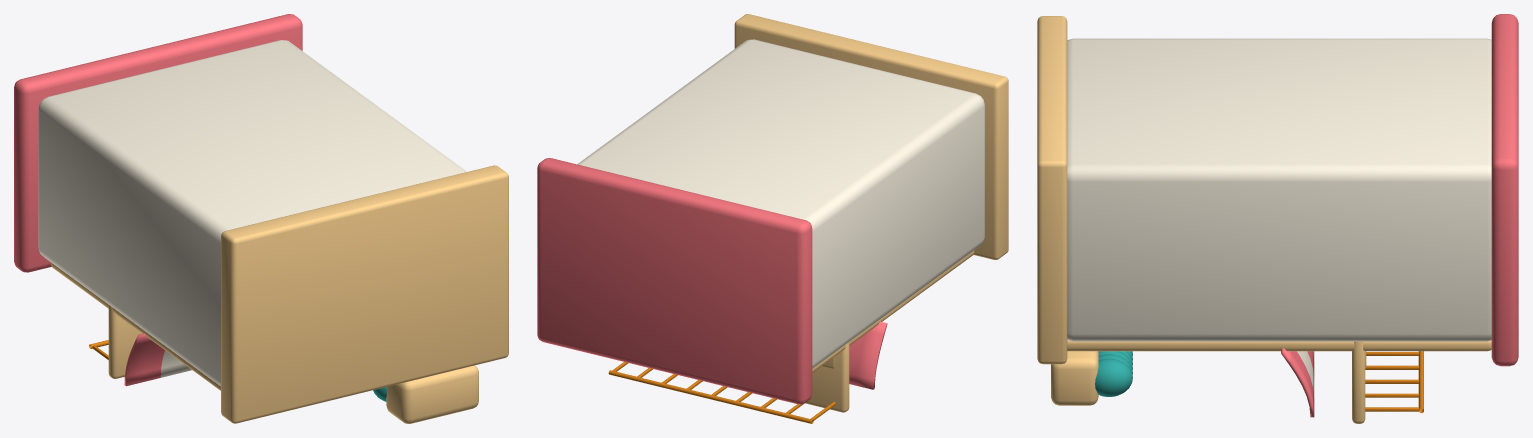
The model's file is RunnerTownhouse1.fbx.
3 views of the same model, side by side, from view 1: azimuth 30°, elevation 25°; view 2: azimuth 150°, elevation 25°; view 3: azimuth 270°, elevation 25° (orthographic). The views are drawn at different scales.
Visible parts, largest first — view 1: RunnerTownhouse1; view 2: RunnerTownhouse1; view 3: RunnerTownhouse1.
Boxes of the visible parts, x1,y1,x2,y2 form: RunnerTownhouse1: (14,14,508,423); RunnerTownhouse1: (537,14,1008,423); RunnerTownhouse1: (1037,14,1518,423).
Size of the model in its own units: 2.39 by 2.05 by 3.22.
